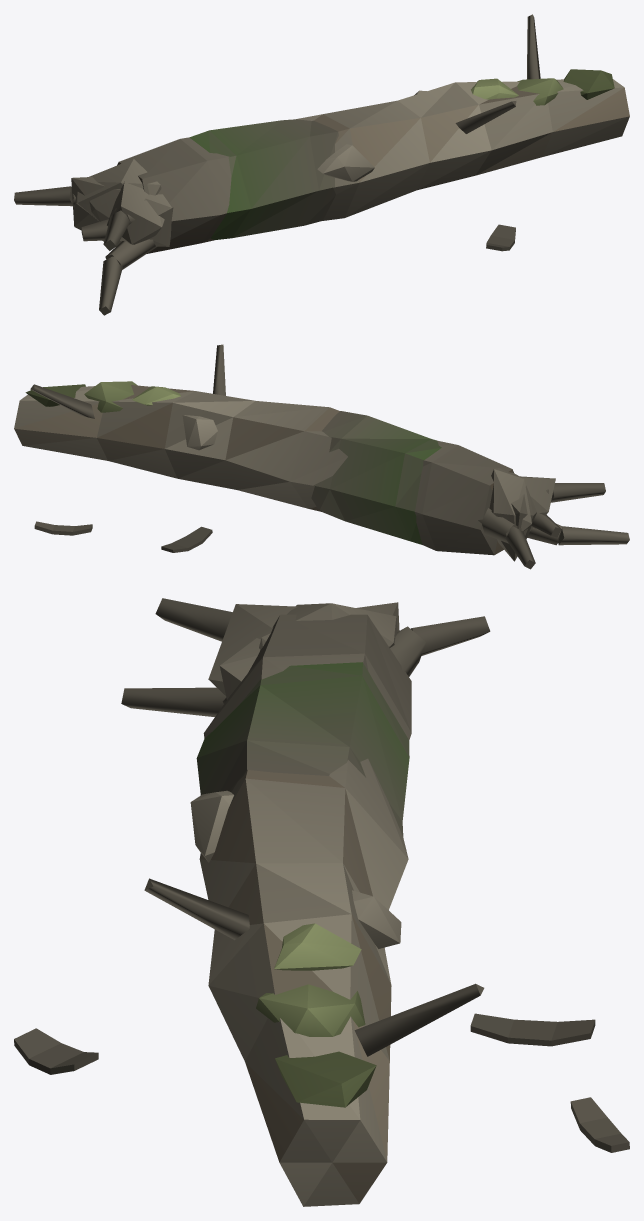
The model's file is driftwood-snag.glb.
The picture shows the model from 3 angles, top to bottom: view 1: azimuth 30°, elevation 25°; view 2: azimuth 150°, elevation 25°; view 3: azimuth 270°, elevation 25°; orthographic projection. The views are drawn at different scales.
Parts seen in each view (by area): view 1: driftwood_snag; view 2: driftwood_snag; view 3: driftwood_snag.
Boxes of the visible parts, box(x1,y1,x2,y2) form: driftwood_snag: box(14, 14, 629, 315); driftwood_snag: box(14, 344, 629, 569); driftwood_snag: box(14, 598, 629, 1206).
Bounding box in the file's own units: 3.62 × 0.7083 × 1.81.
